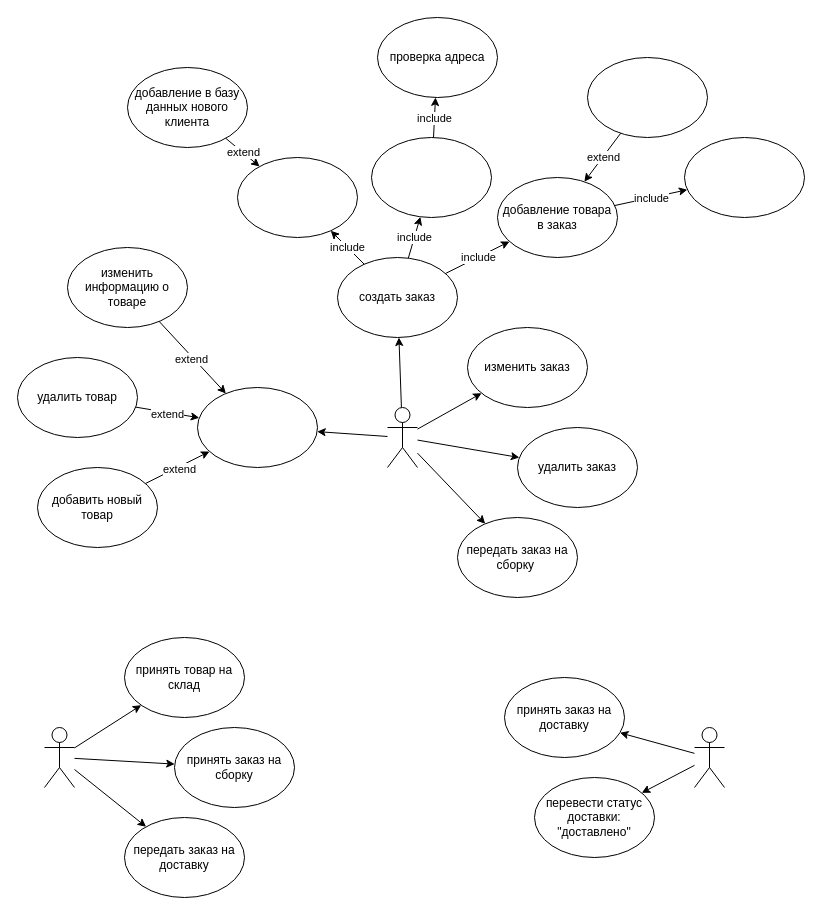
This 822x915 diagram has some shape labels left out. Here are the shapes that lost their labels. From the top down, the centre of each, then its label:
the point at 647,97: изменение количества товара
the point at 297,197: внесение данных о клиенте
the point at 431,177: внесение данных о доставке
the point at 744,177: проверка наличия товара на складе
the point at 257,427: обновить каталог товаров
the point at 402,437: Менеджер
the point at 59,757: Кладовщик
the point at 709,757: Курьер
